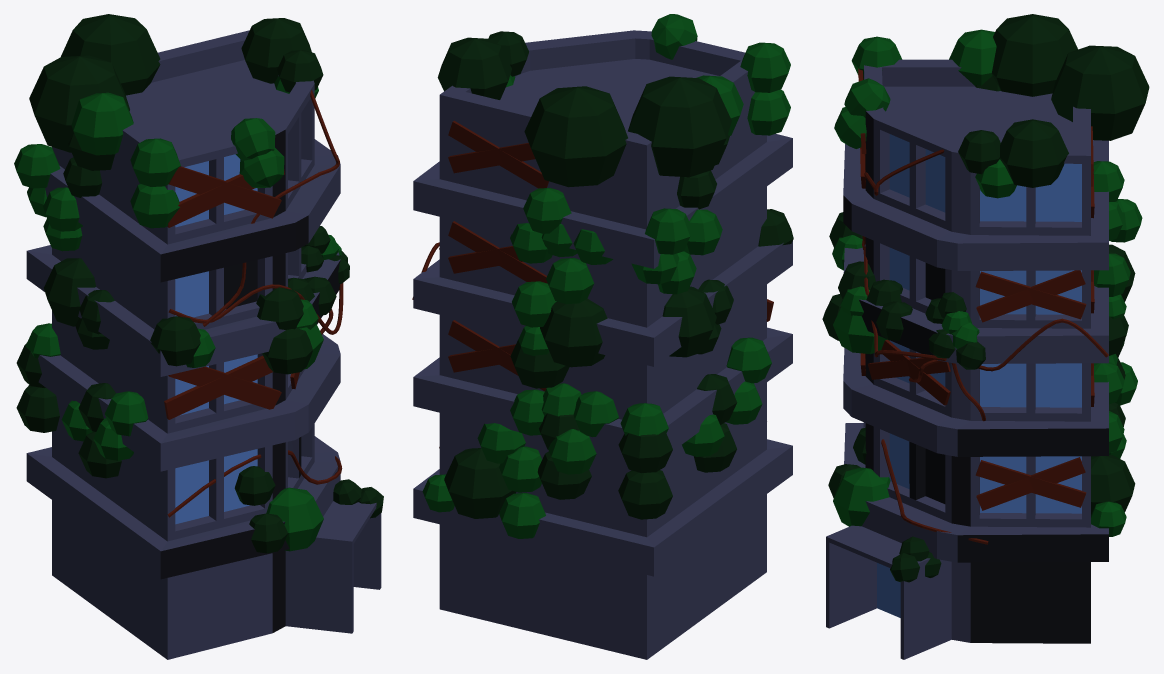
Rendered from abandoned_building_1.FBX.
The picture shows the model from 3 angles, left to right: view 1: azimuth 30°, elevation 25°; view 2: azimuth 150°, elevation 25°; view 3: azimuth 270°, elevation 25°; orthographic projection. The views are drawn at different scales.
Visible parts, largest first — view 1: Box001; view 2: Box001; view 3: Box001.
Part boxes in pixels (x1,y1,x2,y2): Box001: (14,14,383,659); Box001: (412,14,793,659); Box001: (822,14,1149,659).
Bounding box in the file's own units: 7248 × 7401 × 13263.
